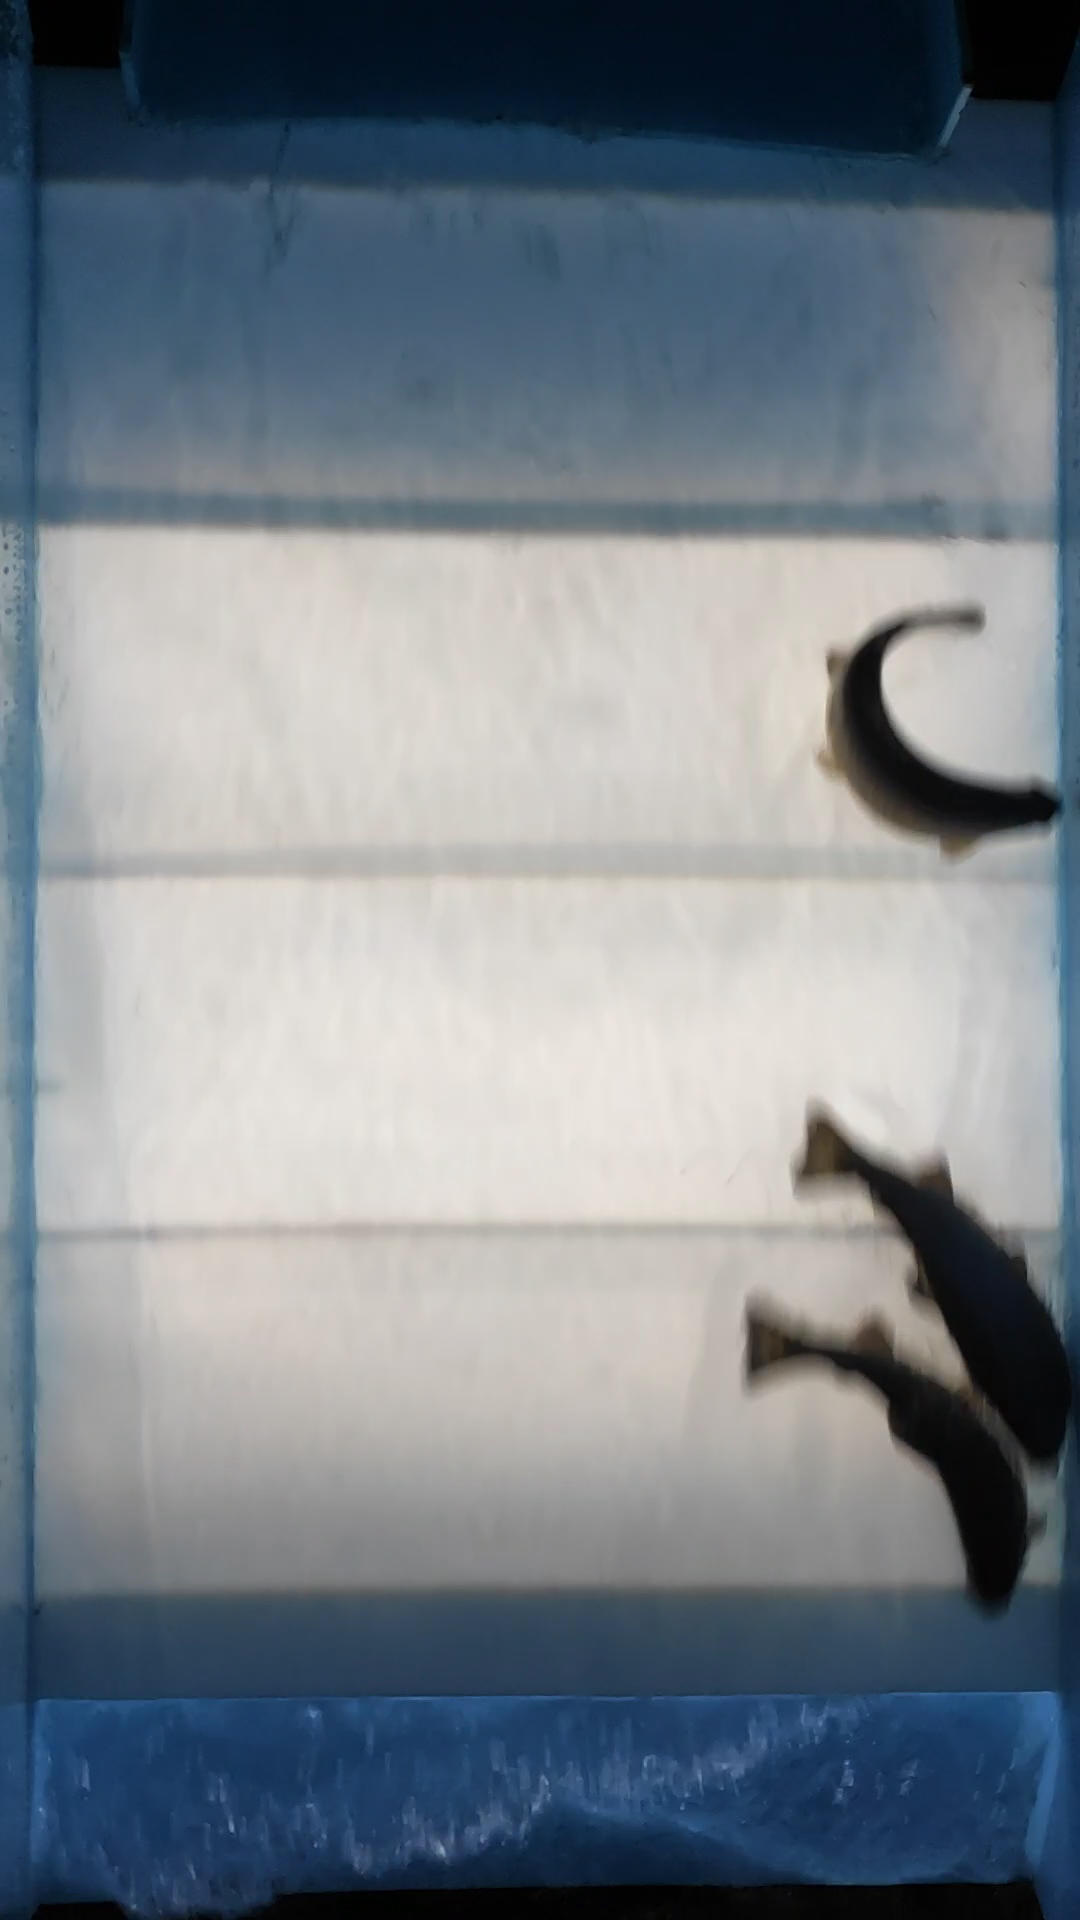fish: (784, 1098, 1080, 1486), (734, 1301, 1045, 1633), (807, 598, 1066, 859)
